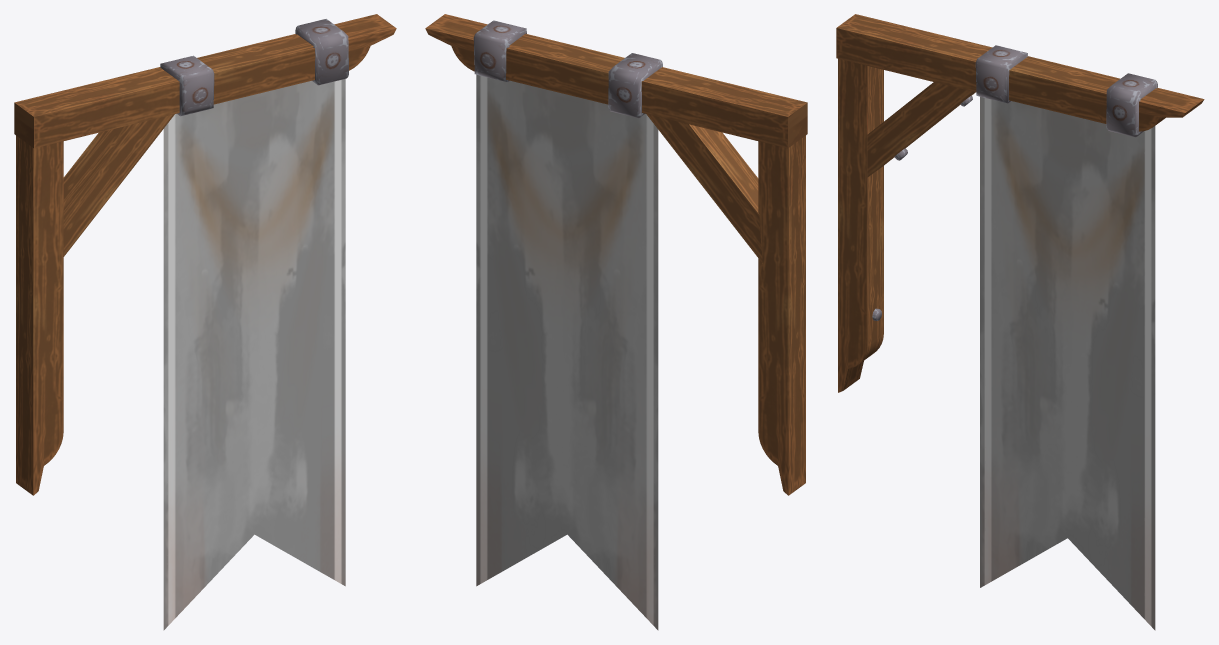
Rendered from Banner_1.gltf.
The picture shows the model from 3 angles, left to right: view 1: azimuth 30°, elevation 25°; view 2: azimuth 150°, elevation 25°; view 3: azimuth 330°, elevation 25°; orthographic projection. The views are drawn at different scales.
Visible parts, largest first — view 1: Banner_1; view 2: Banner_1; view 3: Banner_1.
Boxes of the visible parts, bbox=[...] form: Banner_1: bbox=[14, 14, 396, 630]; Banner_1: bbox=[425, 14, 807, 630]; Banner_1: bbox=[836, 14, 1204, 630].
Bounding box in the file's own units: 1.61 × 2.39 × 0.1906.
3 materials, 3 textured.
